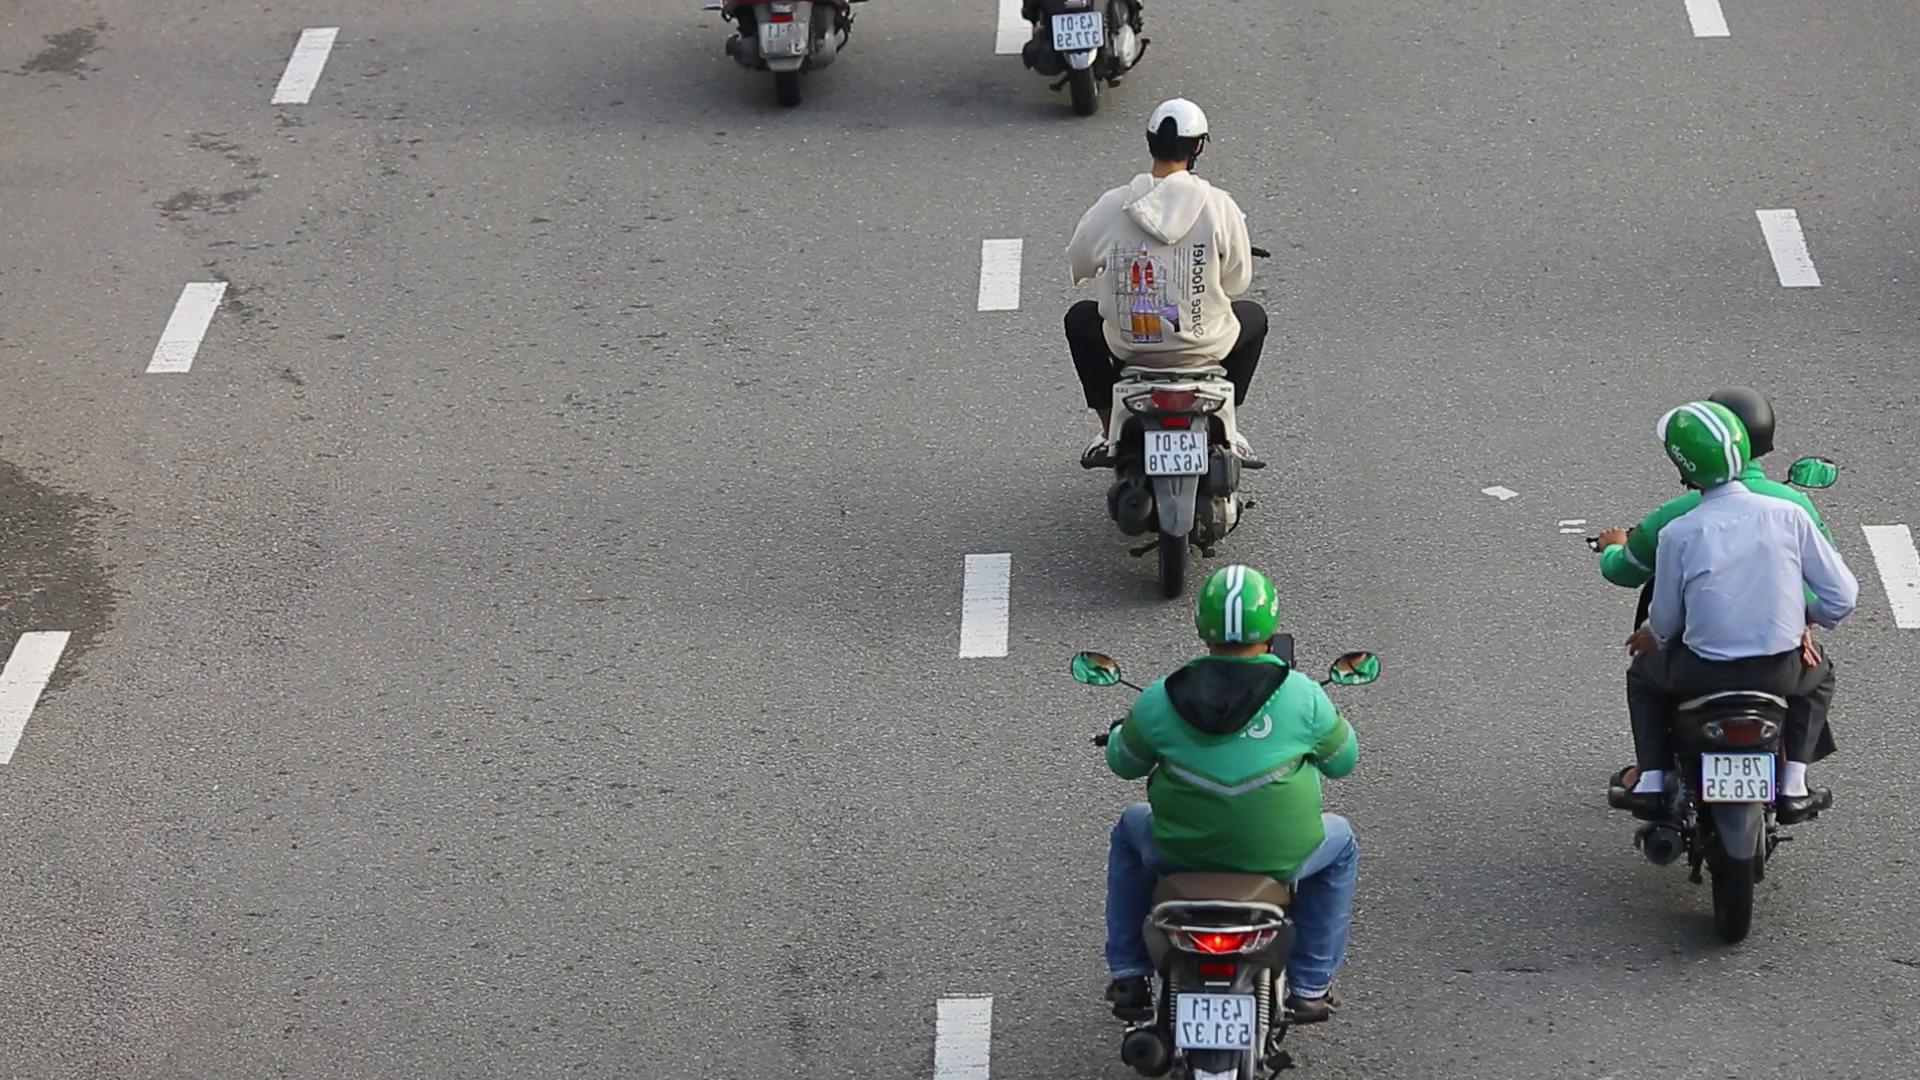motobike: (1068, 549, 1390, 1080), (1571, 382, 1867, 942), (1059, 84, 1275, 589)
